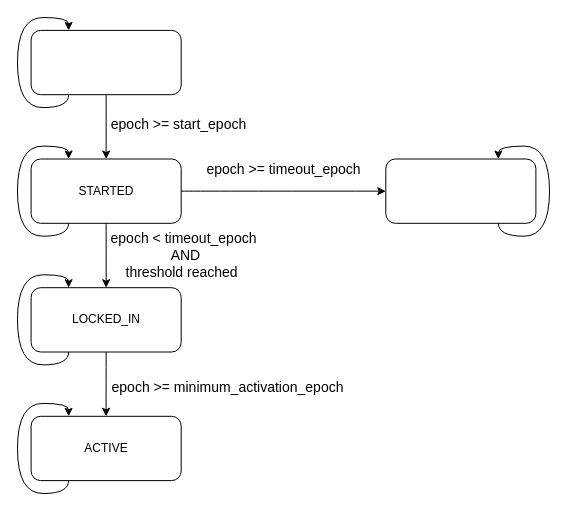
This 567x511 diagram has some shape labels left out. Here are the shapes that lost their labels. From the top down, the box of each, then its label:
(30, 29, 181, 95): DEFINED
(385, 158, 536, 223): FAILED
